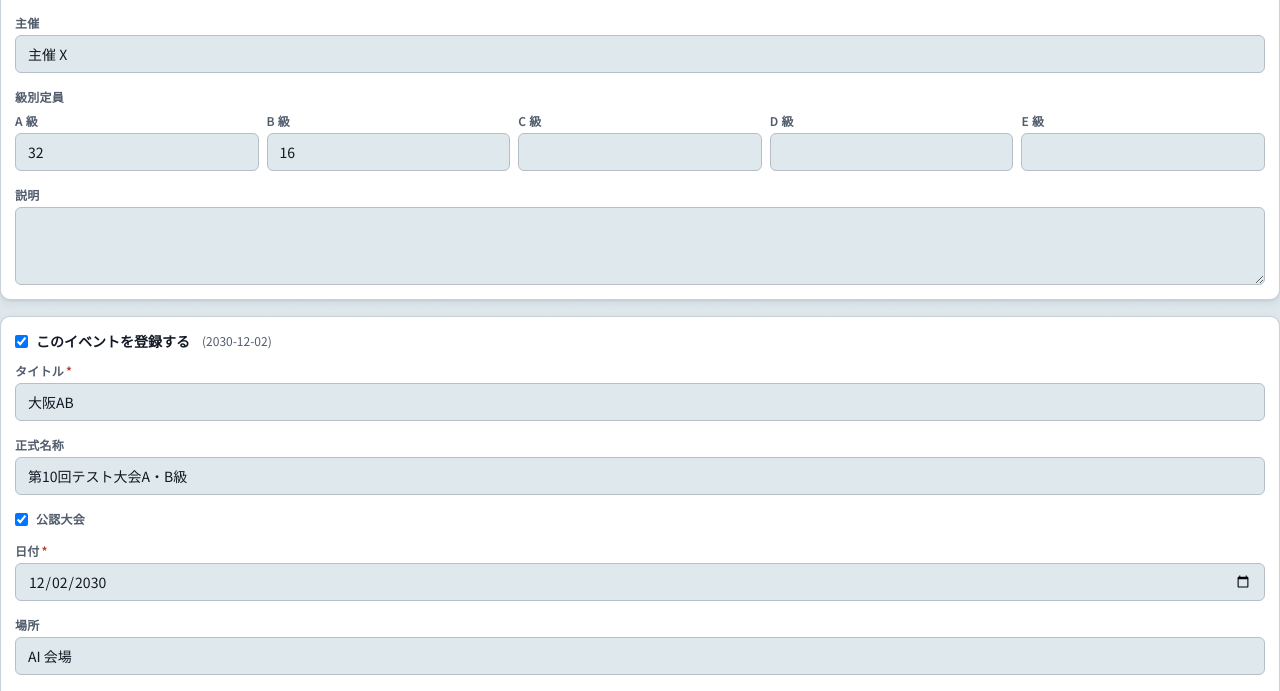
Test case: ApprovalForm — 複数単位フォーム › 新規系列の確認後に登録対象の種別が変わったら確認を解除する
(page scrolled)
Click the checkbox labelled "このイベントを登録する (2030-12-02)". click: (22, 341)
box: [15,335,28,348]
(page scrolled)
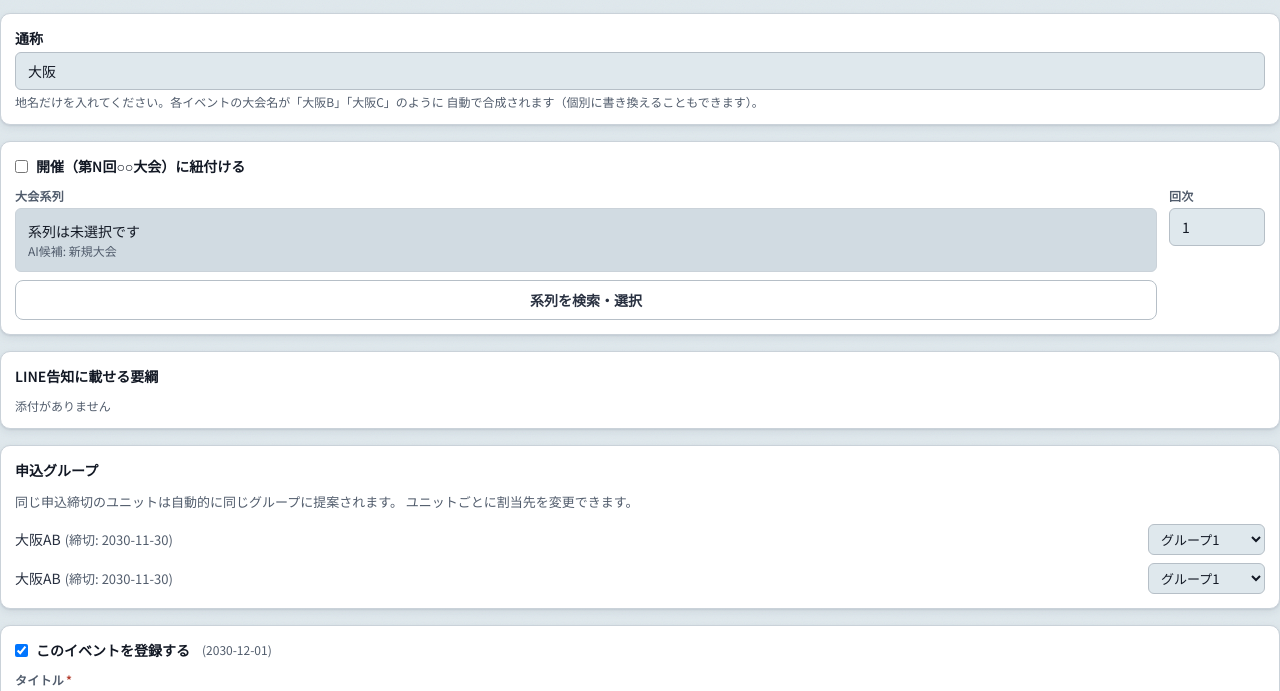
Click the button "系列を検索・選択". click: (586, 300)
box: [15,280,1157,320]
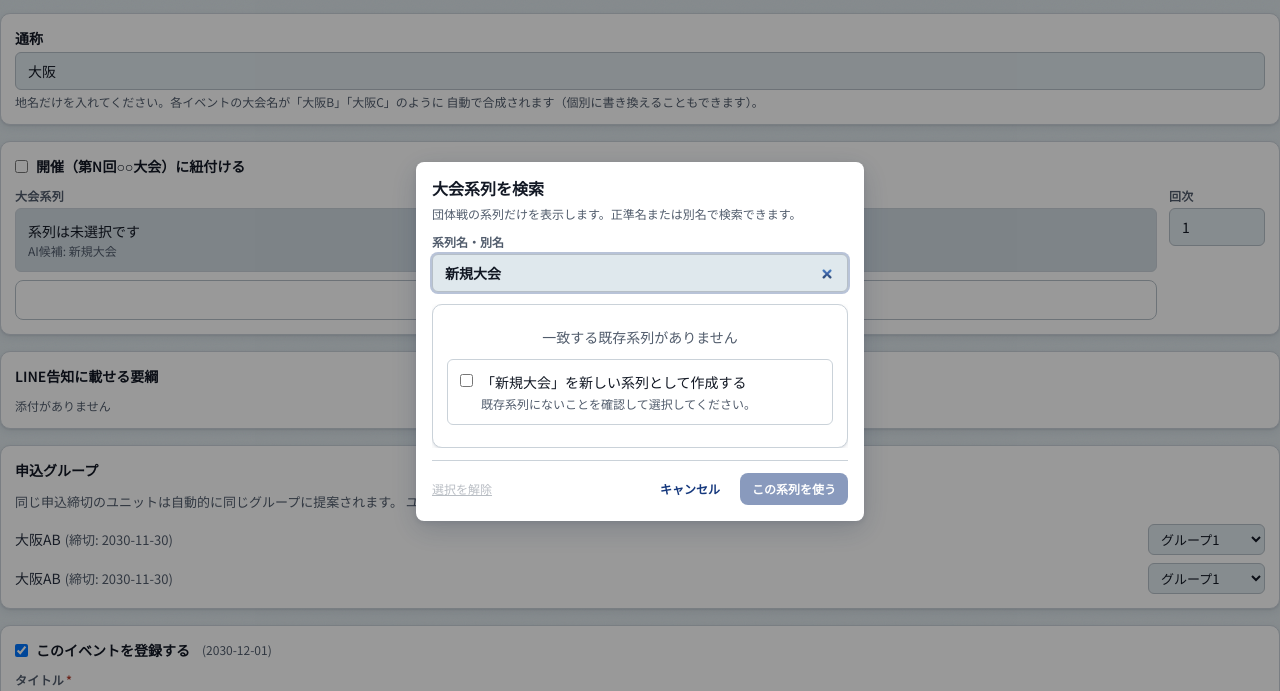
Click the checkbox. click: (466, 380)
box: [460,374,473,386]
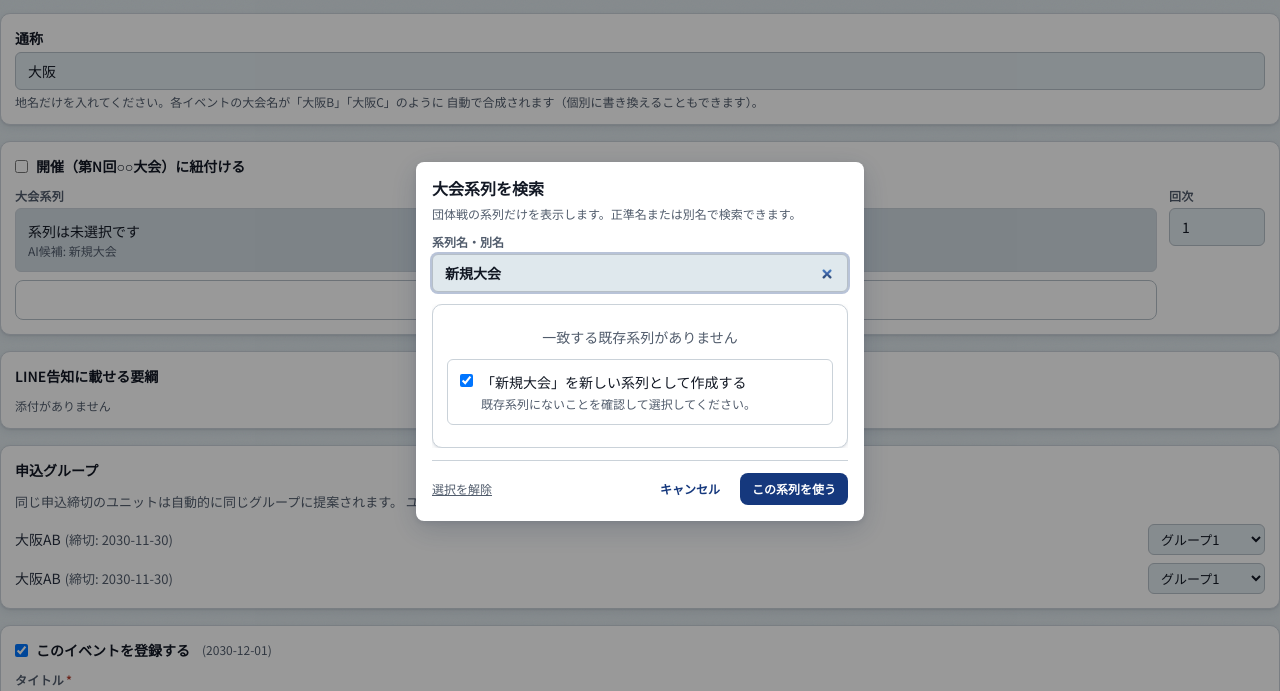
Click the button "この系列を使う". click: (794, 488)
box: [740,472,848,504]
(page scrolled)
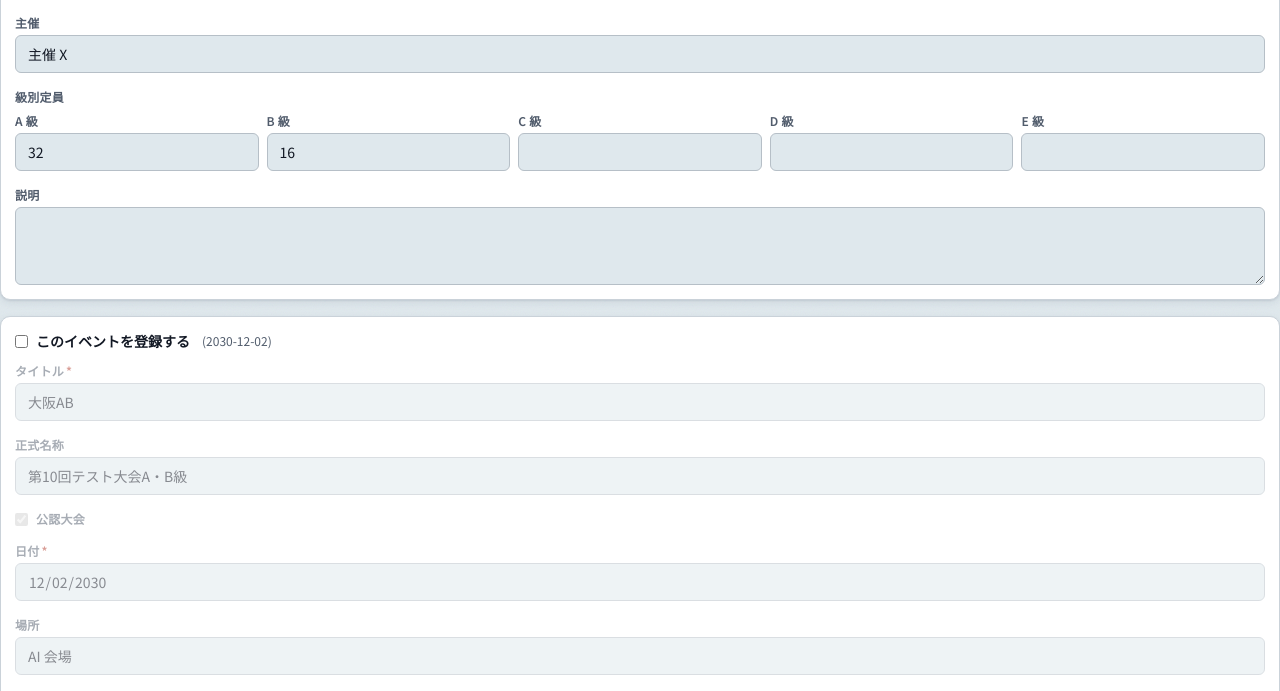
Click the checkbox labelled "このイベントを登録する (2030-12-02)". click: (22, 341)
box: [15,335,28,348]
(page scrolled)
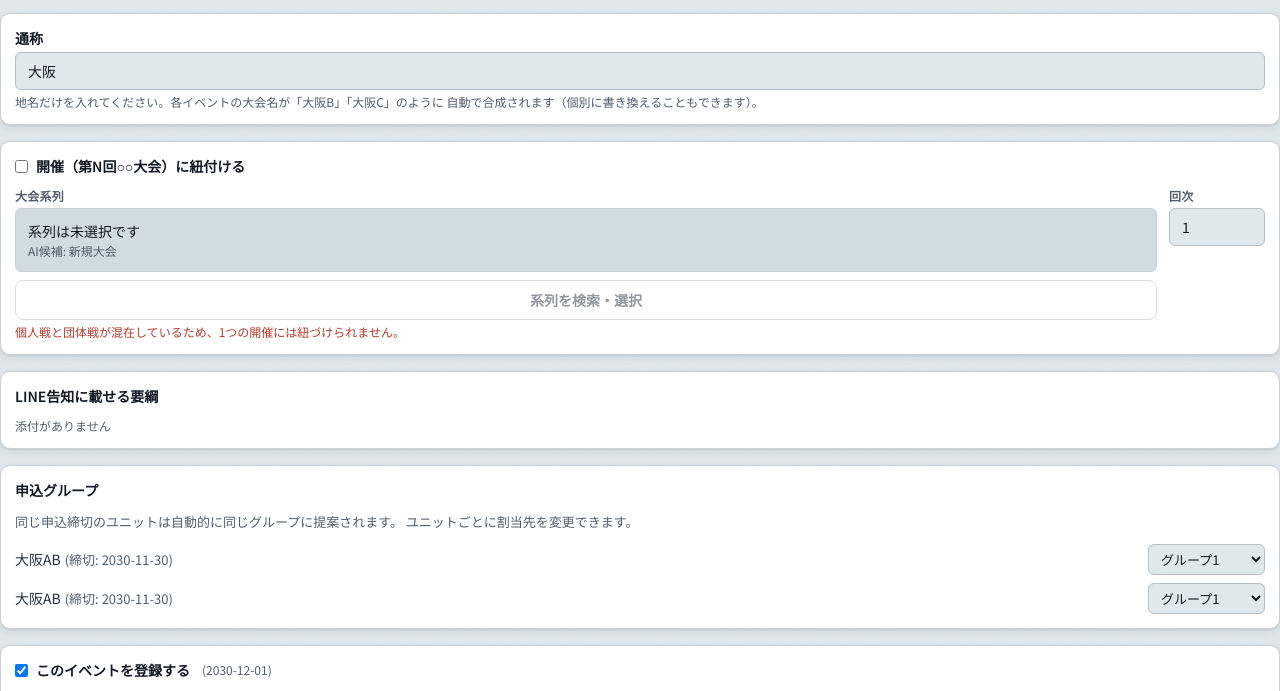
Check: the checkbox named "editionLink" is not checked, box [15,160,28,172]
